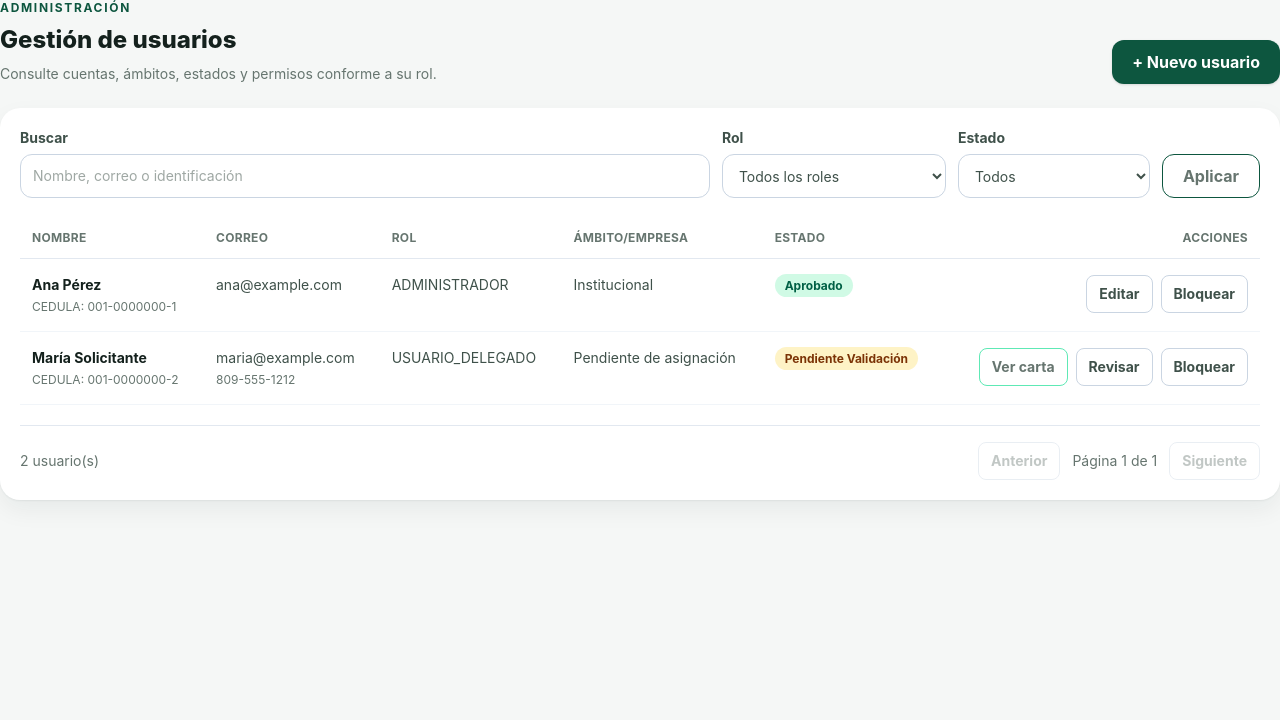
Scenario: UsersManagement › muestra la tabla y abre el formulario de creación para un administrador
Expected: the text "Ana Pérez" is shown, [32,276,101,293]
Expected: the text "ana@example.com" is shown, [204,258,380,332]
Click the button "+ Nuevo usuario": click(1196, 62) [1112,40,1279,84]
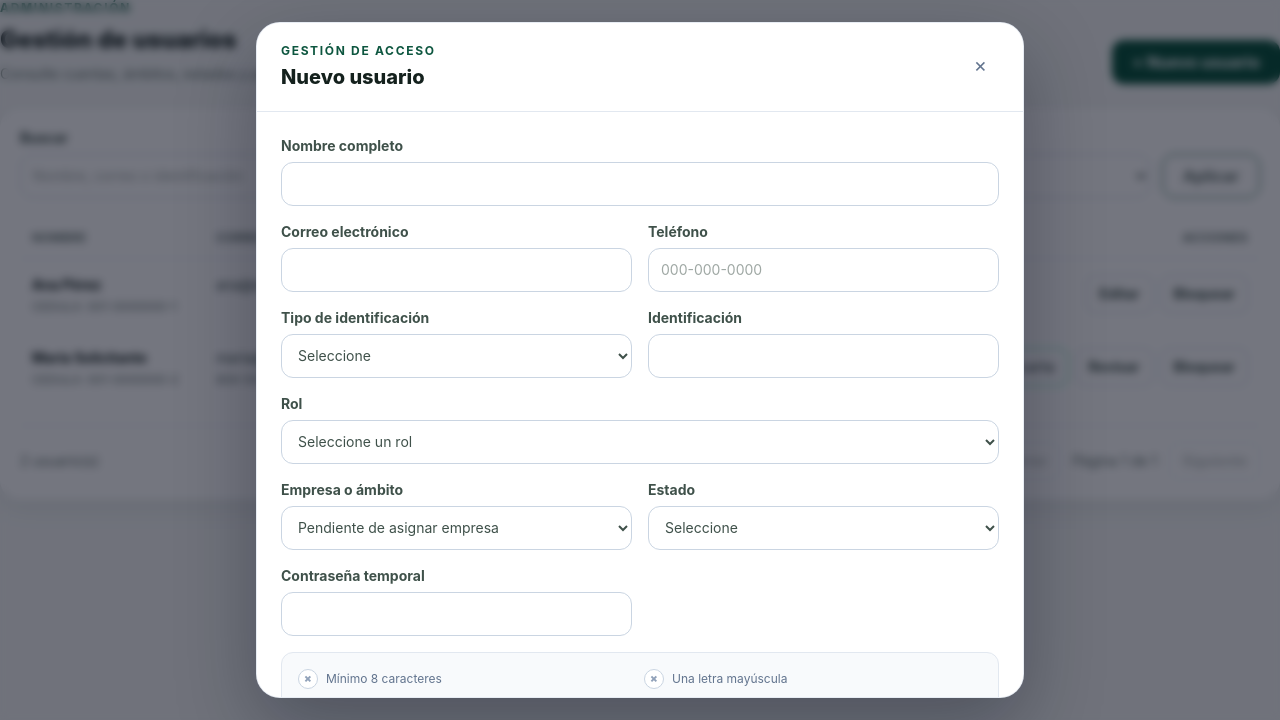
Result: the dialog "Nuevo usuario" is shown at [256,22,1024,698]
Result: the dropdown labelled "Rol" is shown at [281,420,999,464]
In the password field labelled "Contraseña temporal": (456, 614) [281,592,632,636], type "Segura8!"
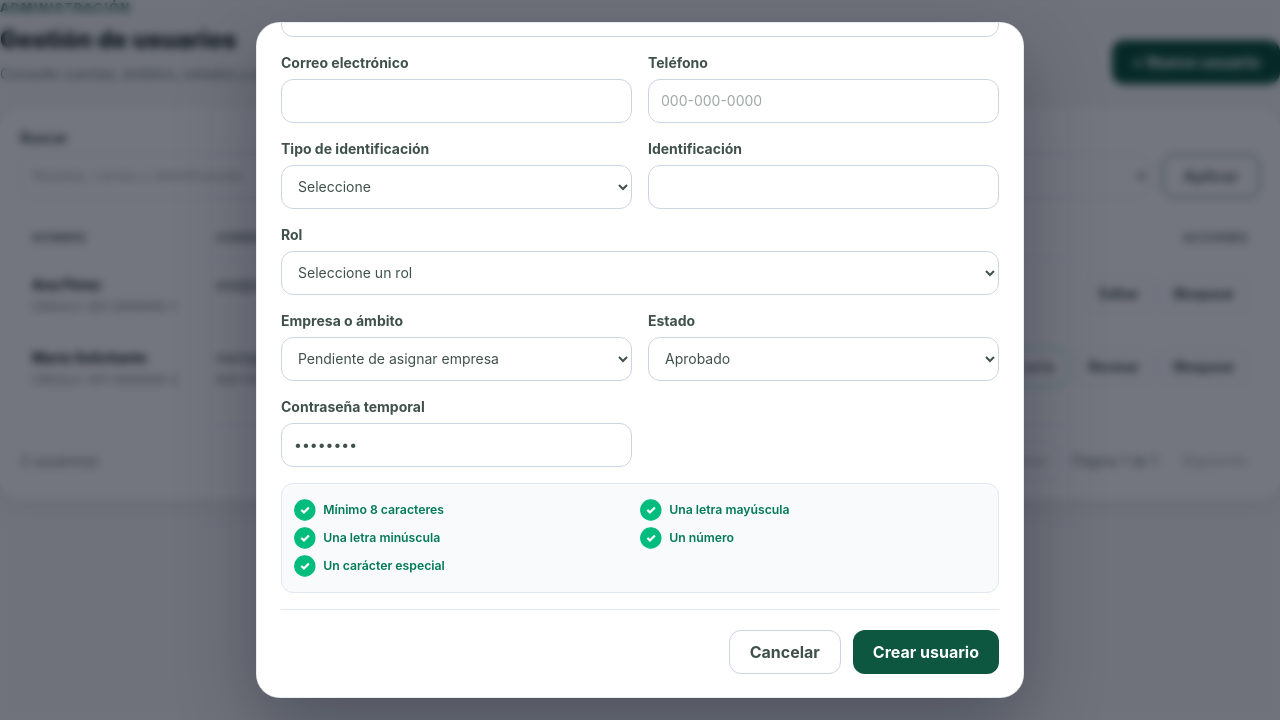
Result: the button "Crear usuario" is enabled at [853,630,999,674]
